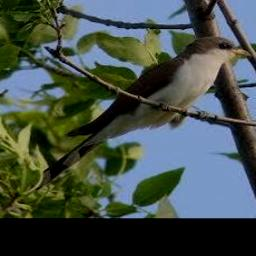Cuckoo: (29, 37, 253, 192)
